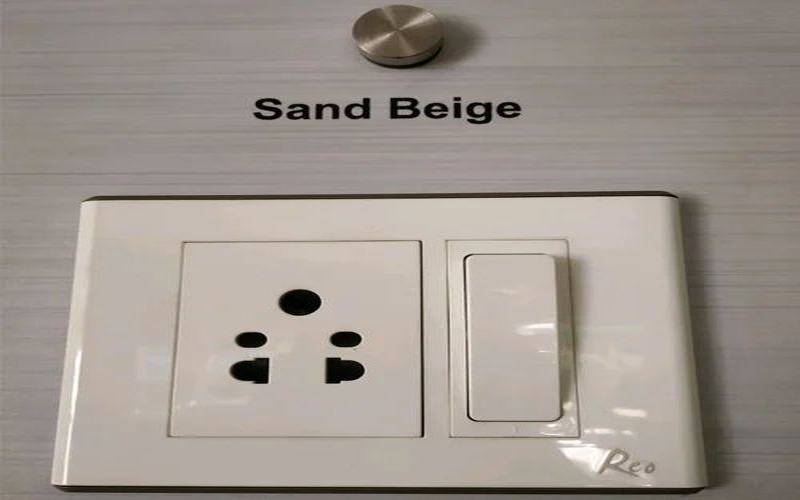Switches: (433, 235, 590, 452)
